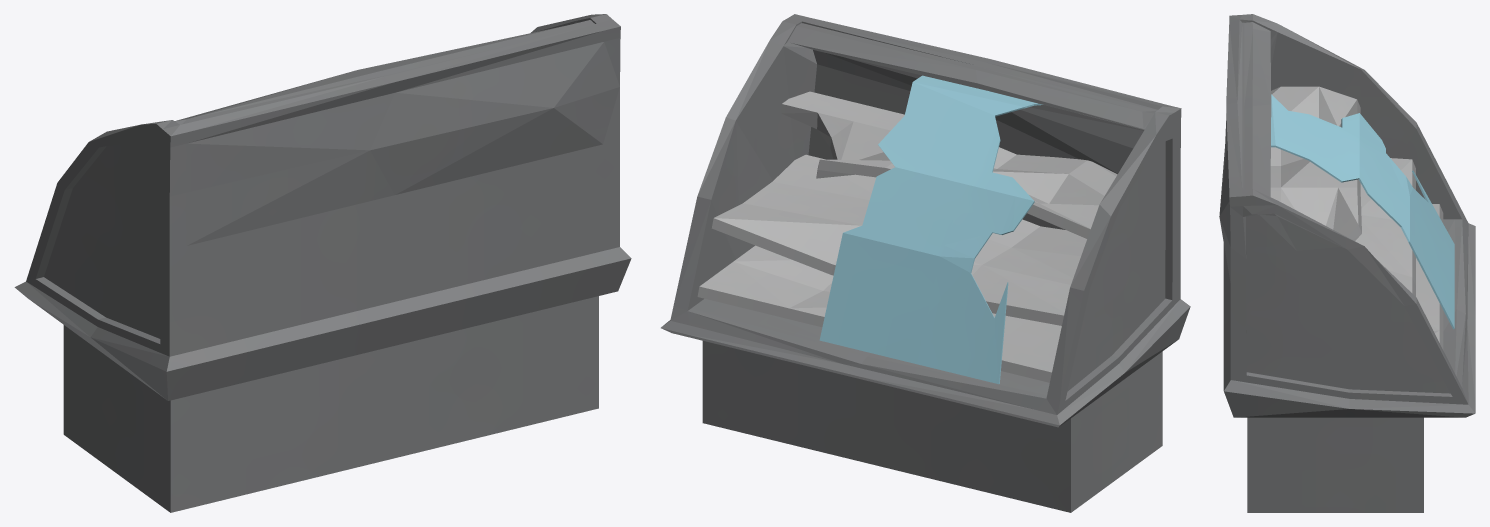
File: freezer_1.obj
3 views of the same model, side by side, from view 1: azimuth 30°, elevation 25°; view 2: azimuth 150°, elevation 25°; view 3: azimuth 270°, elevation 25° (orthographic). The views are drawn at different scales.
Parts seen in each view (by area): view 1: freezer_1_Mesh; view 2: freezer_1_Mesh, freezer_glass_1_Mesh; view 3: freezer_1_Mesh, freezer_glass_1_Mesh.
Boxes of the visible parts, x1=… form: freezer_1_Mesh: x1=14, y1=14, x2=631, y2=512; freezer_1_Mesh: x1=661, y1=14, x2=1190, y2=512; freezer_glass_1_Mesh: x1=819, y1=75, x2=1042, y2=384; freezer_1_Mesh: x1=1219, y1=14, x2=1475, y2=512; freezer_glass_1_Mesh: x1=1271, y1=94, x2=1454, y2=329.
Bounding box in the file's own units: 1.34 × 1.07 × 0.7732.
